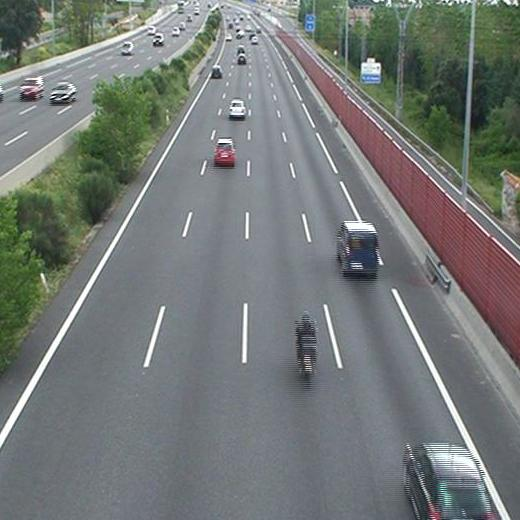car: (406, 445, 492, 520), (214, 140, 234, 163), (228, 100, 245, 116), (211, 67, 221, 77), (237, 55, 245, 63), (236, 45, 244, 51)
motorcycle: (295, 311, 318, 379)
van: (338, 223, 378, 273)
